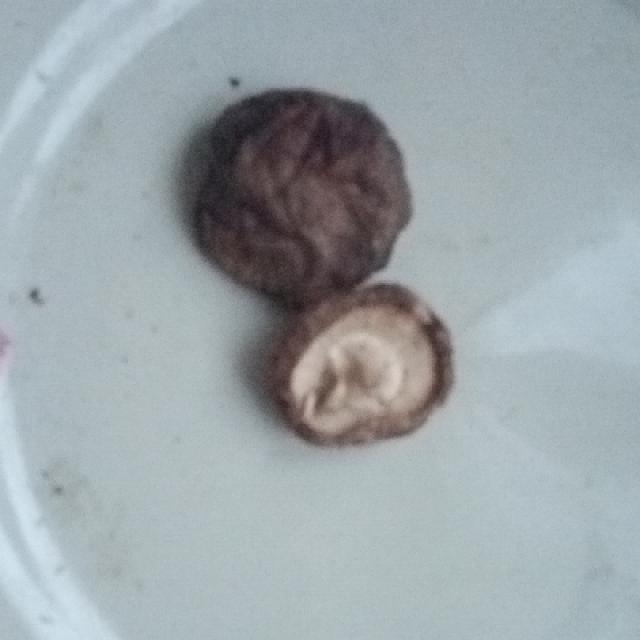Lentinus edodes: (195, 88, 414, 305), (269, 286, 452, 446)
